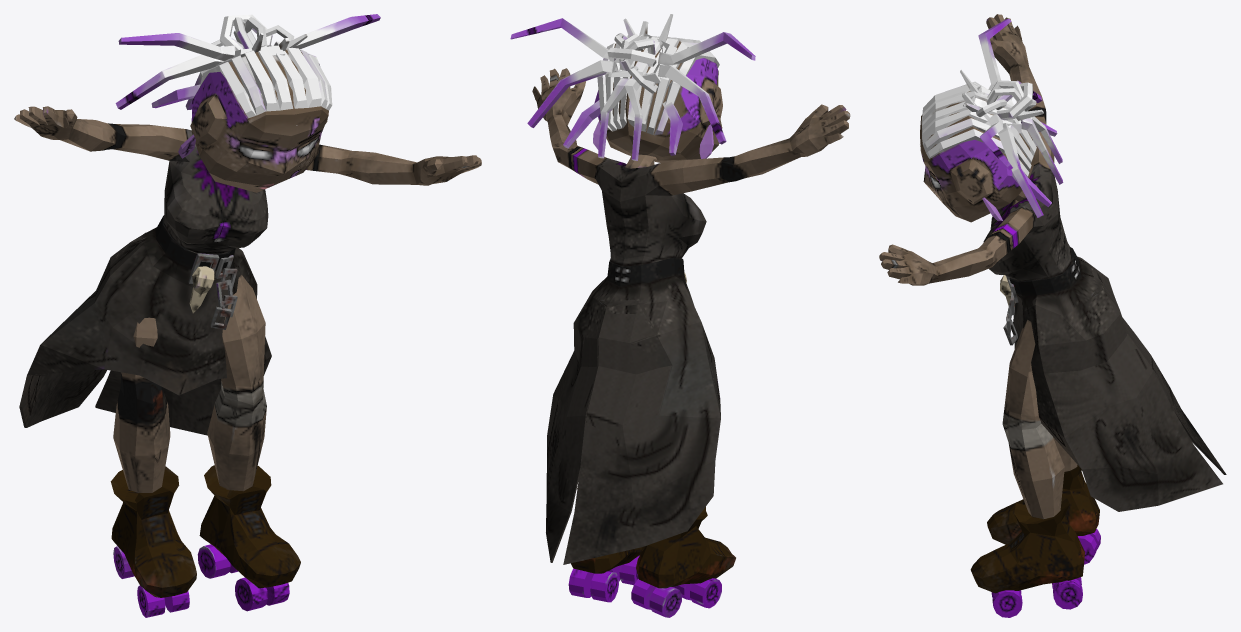
File: bruja_000170.obj
3 views of the same model, side by side, from view 1: azimuth 30°, elevation 25°; view 2: azimuth 150°, elevation 25°; view 3: azimuth 270°, elevation 25° (orthographic). The views are drawn at different scales.
Parts seen in each view (by area): view 1: Bruja_Plane.001; view 2: Bruja_Plane.001; view 3: Bruja_Plane.001.
Part boxes in pixels (box(x1,y1,x2,y2)): Bruja_Plane.001: box(14, 14, 481, 617); Bruja_Plane.001: box(510, 14, 850, 617); Bruja_Plane.001: box(879, 14, 1226, 617).
Size of the model in its own units: 11.31 by 16.37 by 9.64.
